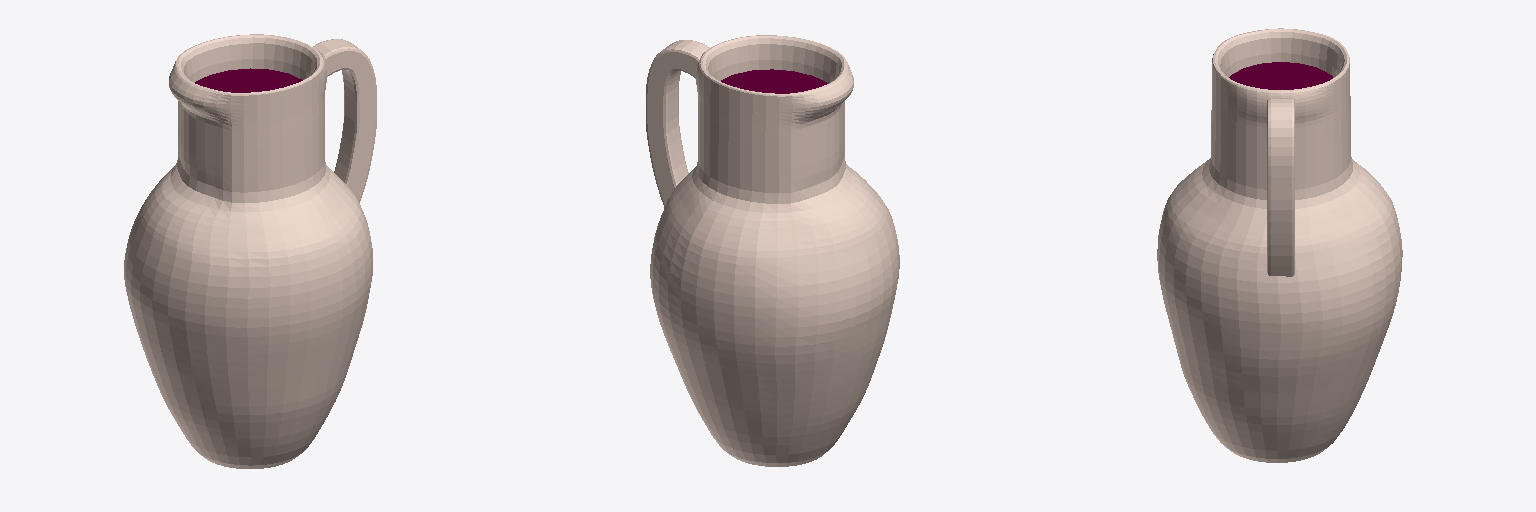
File: purple_jug.obj
The picture shows the model from 3 angles: view 1: azimuth 30°, elevation 25°; view 2: azimuth 150°, elevation 25°; view 3: azimuth 270°, elevation 25°; orthographic projection.
Parts seen in each view (by area): view 1: Cylinder002; view 2: Cylinder002; view 3: Cylinder002.
Boxes of the visible parts, <box> form: Cylinder002: <box>124,34,376,468</box>; Cylinder002: <box>646,35,899,466</box>; Cylinder002: <box>1157,28,1402,462</box>.
Size of the model in its own units: 21.79 by 34.82 by 19.99.